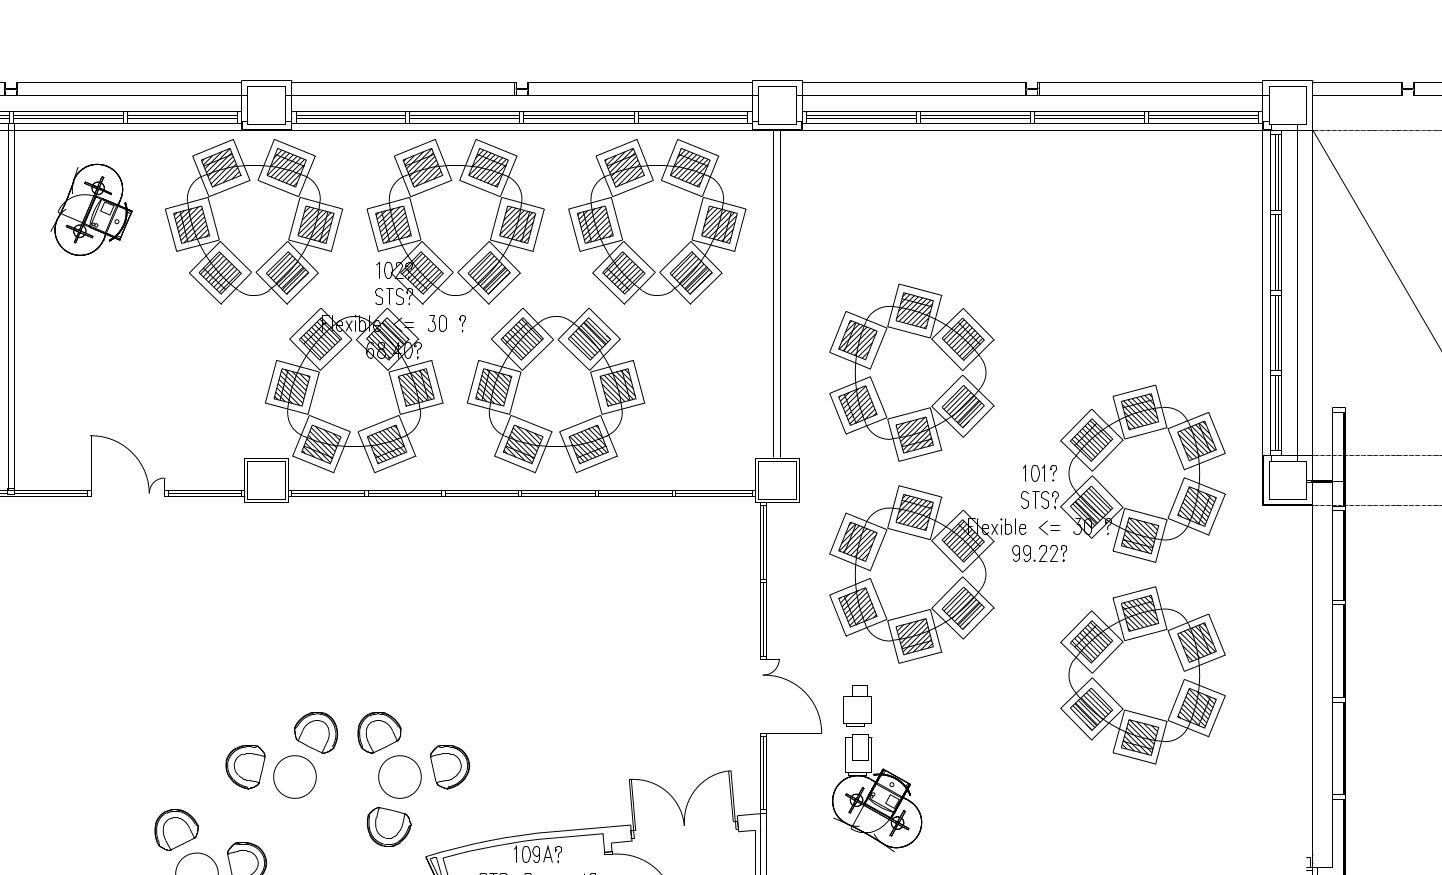door: (626, 757, 739, 832), (750, 655, 832, 743), (85, 431, 167, 501)
